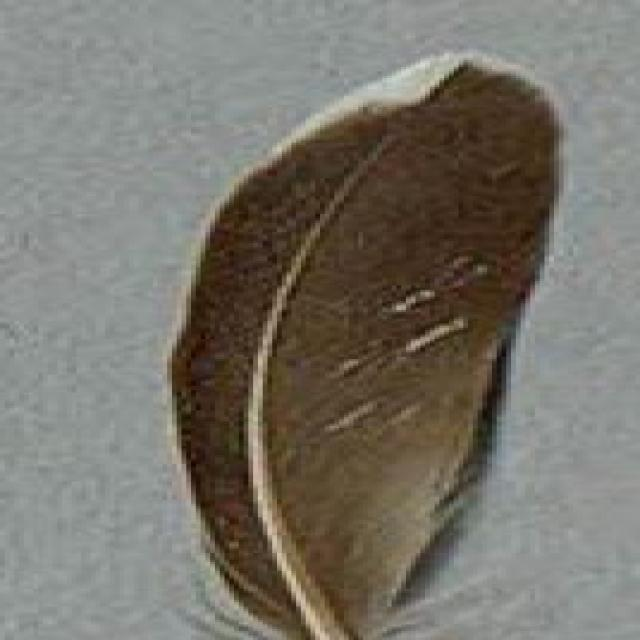feather: (177, 54, 584, 640)
